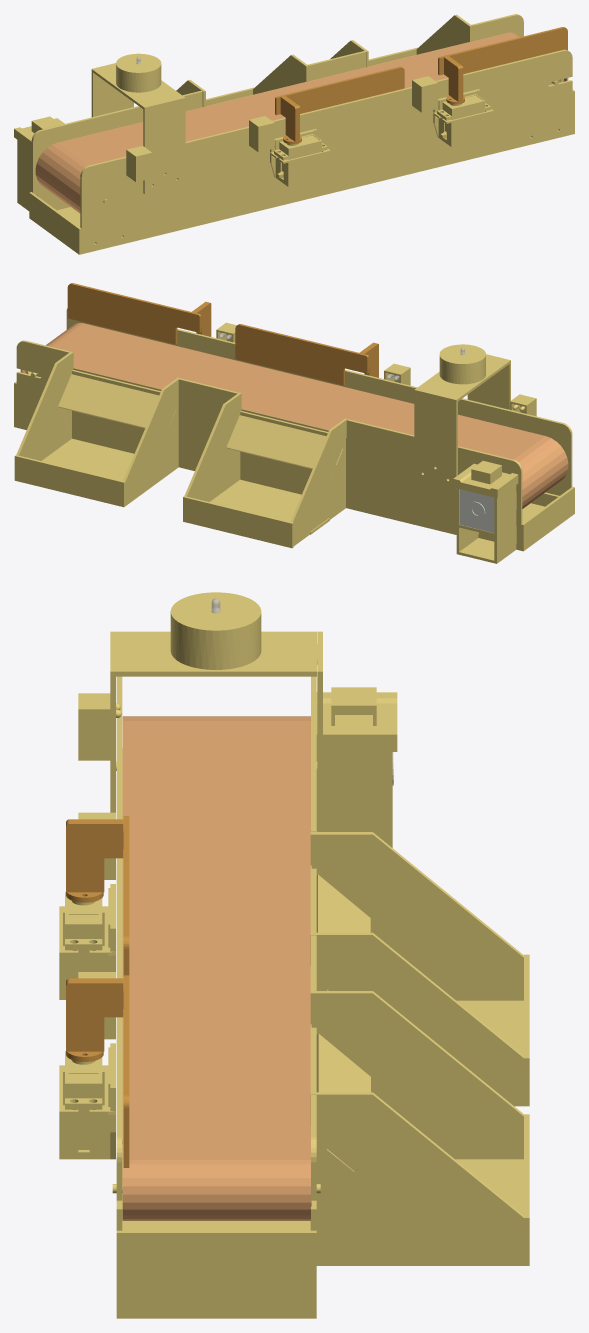
The model's file is conveyor.fbx.
3 renders of one model, top to bottom at view 1: azimuth 30°, elevation 25°; view 2: azimuth 150°, elevation 25°; view 3: azimuth 270°, elevation 25°, orthographic. The views are drawn at different scales.
Parts seen in each view (by area): view 1: Conveyor, Conveyor.001, Conveyor.002; view 2: Conveyor, Conveyor.001, Conveyor.002; view 3: Conveyor, Conveyor.001, Conveyor.002.
Part boxes in pixels (x1=…): Conveyor: x1=14, y1=14, x2=574, y2=254; Conveyor.001: x1=438, y1=27, x2=567, y2=104; Conveyor.002: x1=275, y1=66, x2=404, y2=144; Conveyor: x1=14, y1=308, x2=574, y2=563; Conveyor.001: x1=67, y1=283, x2=211, y2=344; Conveyor.002: x1=235, y1=324, x2=378, y2=385; Conveyor: x1=59, y1=592, x2=529, y2=1318; Conveyor.001: x1=66, y1=975, x2=129, y2=1167; Conveyor.002: x1=66, y1=816, x2=129, y2=975.
Bounding box in the file's own units: 516 × 158 × 212.
